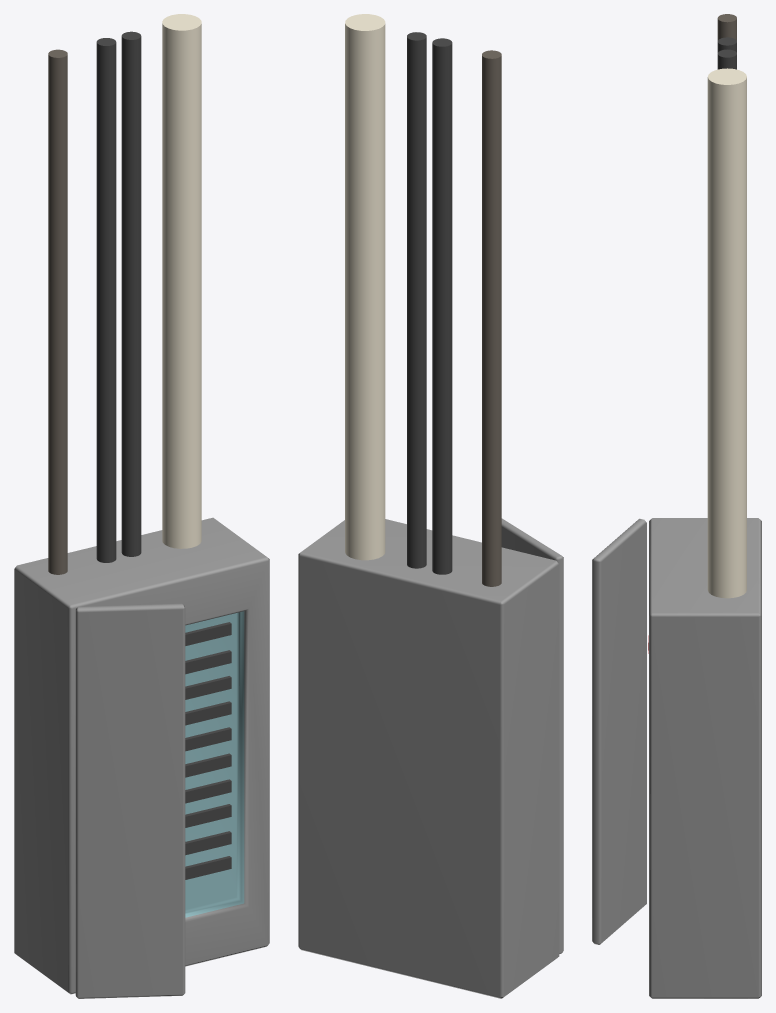
File: SM_powerBox.fbx
3 renders of one model, left to right at view 1: azimuth 30°, elevation 25°; view 2: azimuth 150°, elevation 25°; view 3: azimuth 270°, elevation 25°, orthographic. The views are drawn at different scales.
Visible parts, largest first — view 1: SM_powerBox; view 2: SM_powerBox; view 3: SM_powerBox.
Boxes of the visible parts, x1=… form: SM_powerBox: x1=14, y1=14, x2=269, y2=998; SM_powerBox: x1=298, y1=14, x2=563, y2=998; SM_powerBox: x1=592, y1=14, x2=761, y2=998.
Bounding box in the file's own units: 0.5419 × 2.33 × 0.3985.
